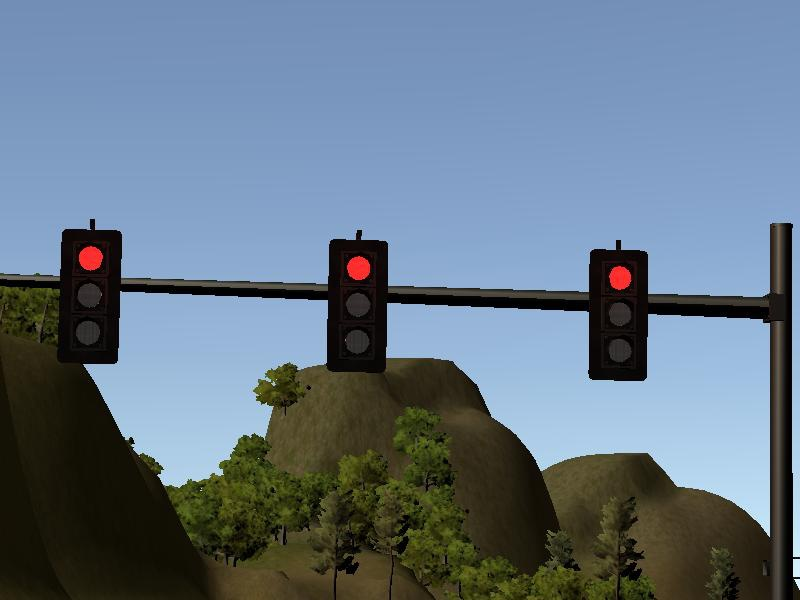Red: (62, 230, 120, 365), (589, 249, 646, 381), (330, 239, 385, 371)
